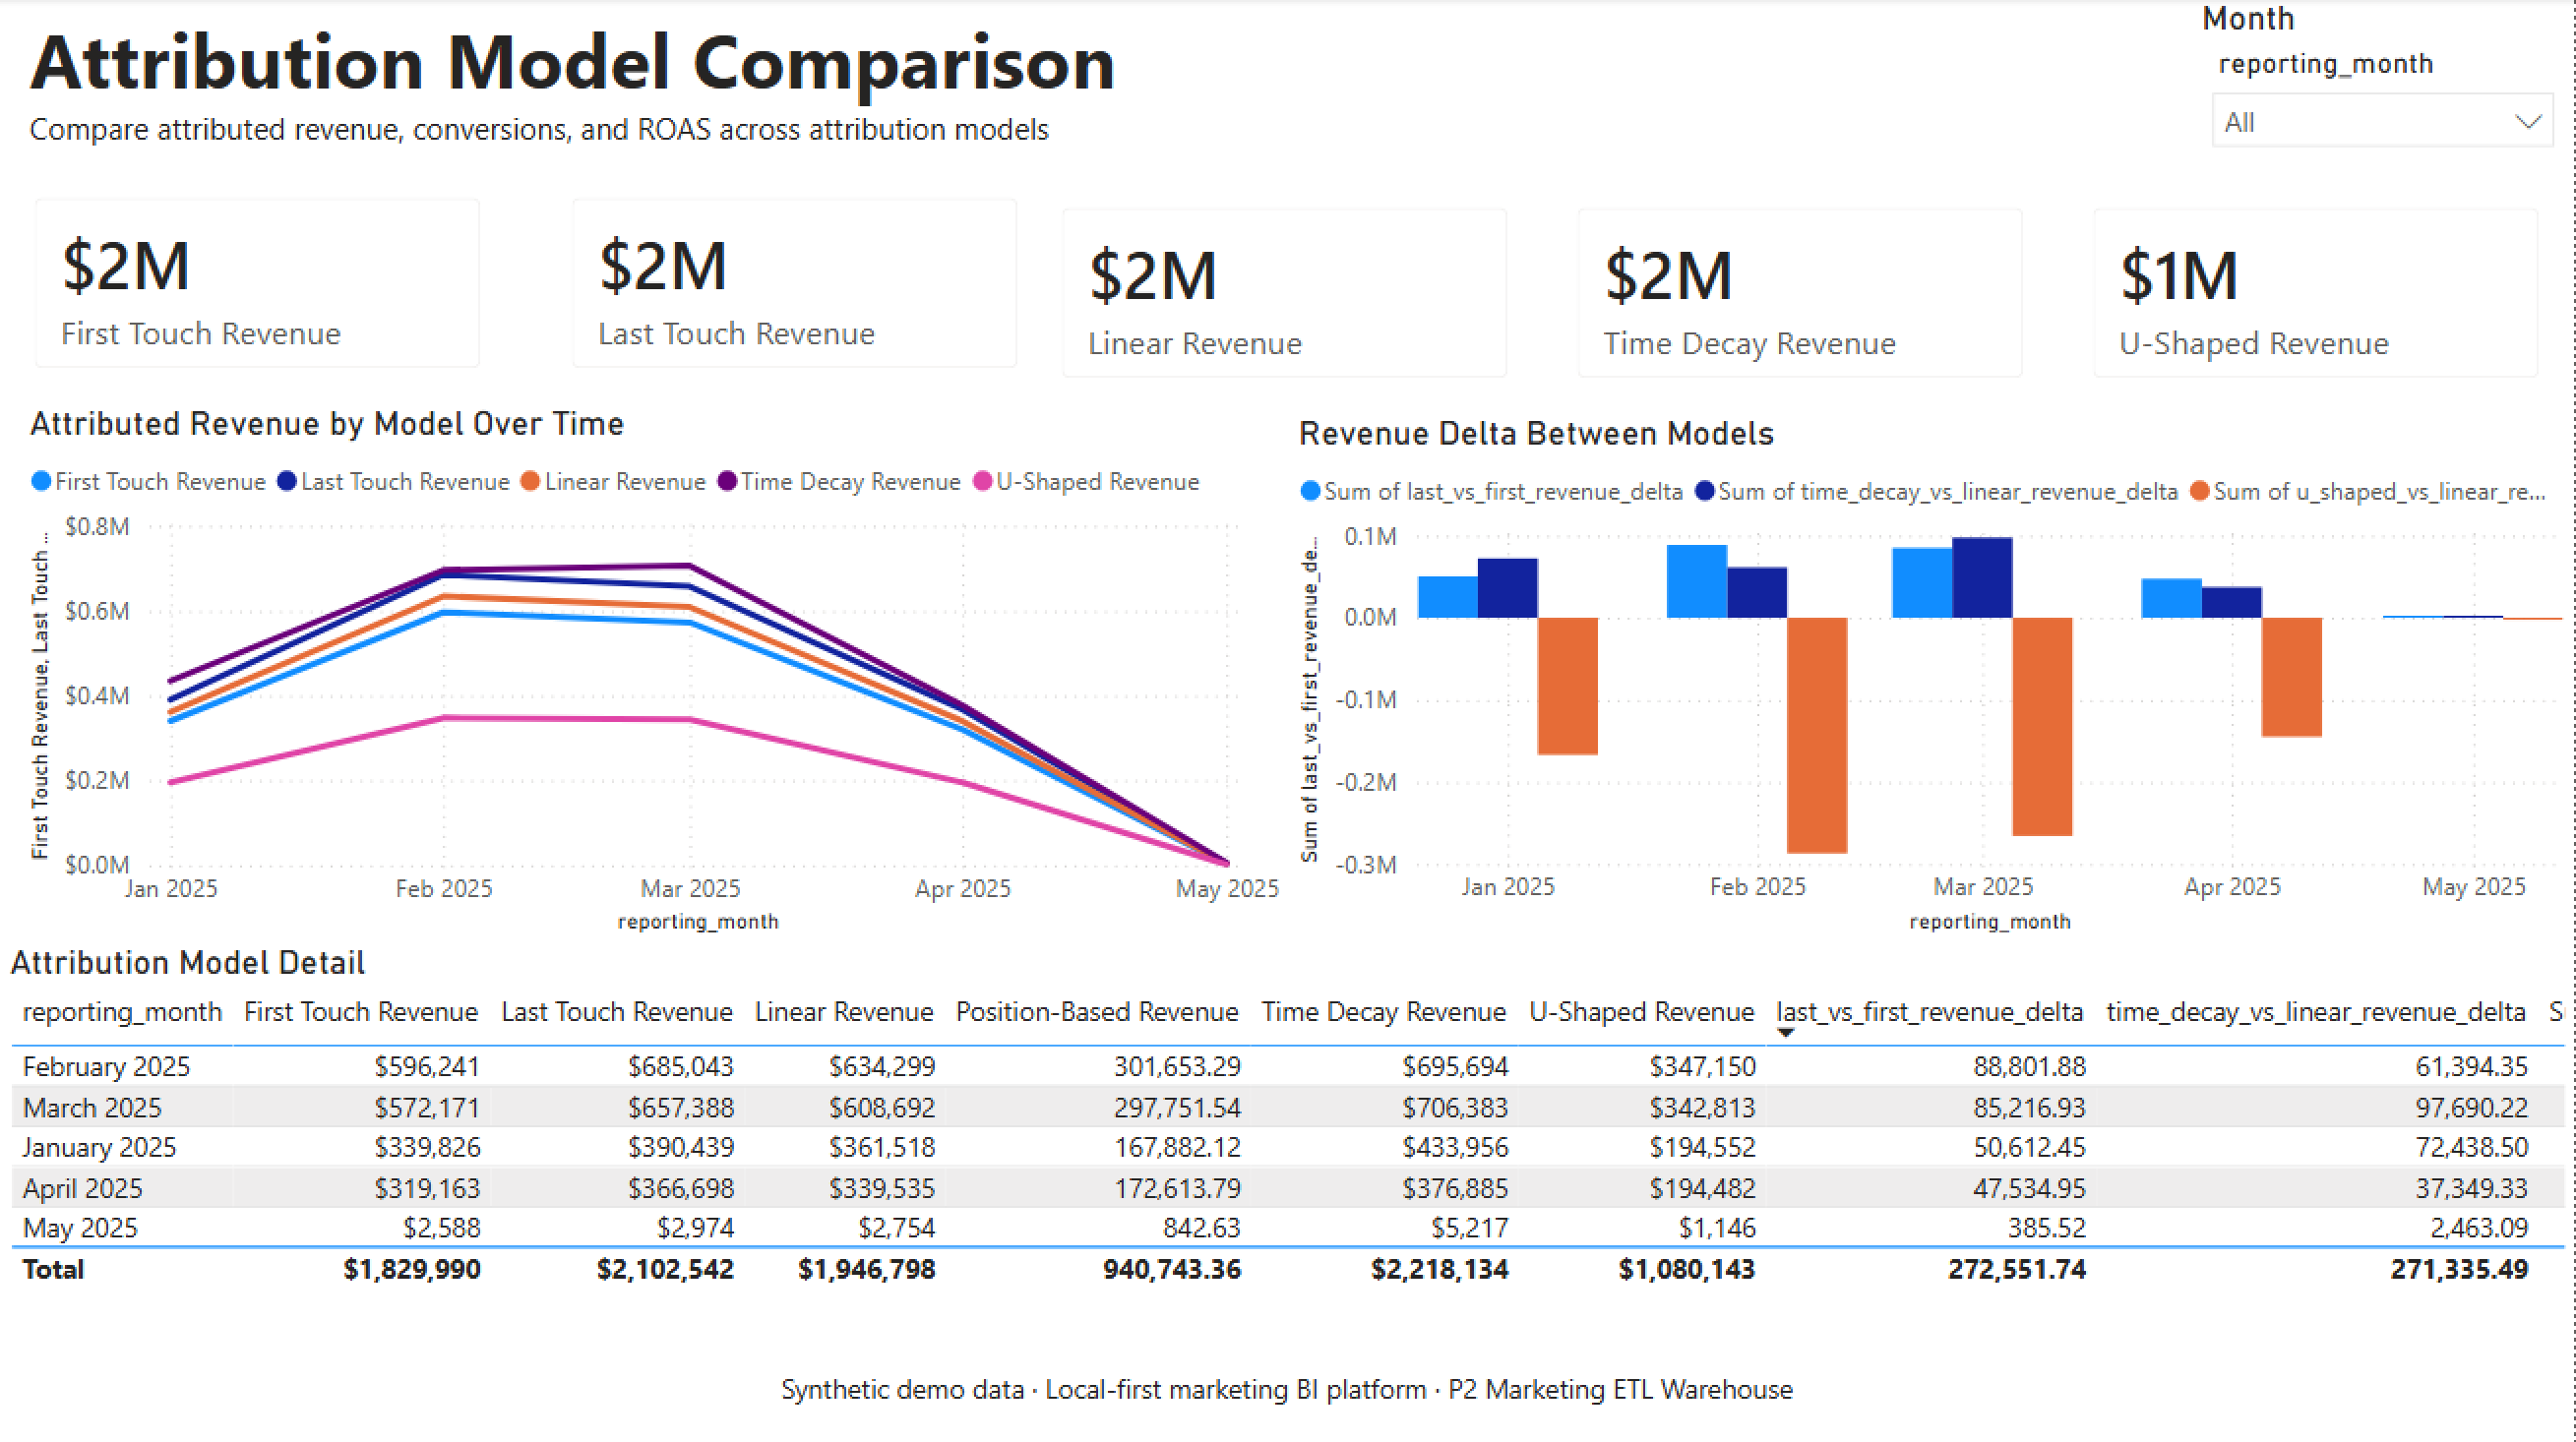

Layout of this report page (visuals, bound fields, positions):
{"tool":"powerbi","page":{"name":"Attribution Model Comparison","canvas":[1280,720],"ordinal":4},"visuals":[{"type":"textbox","box":[9.8,0,869.7,82.2],"z":0},{"type":"slicer","title":"Month","fields":{"Values":["mart_attribution_model_comparison.reporting_month"]},"box":[1089.8,0,189.8,87.1],"z":2000},{"type":"cardVisual","fields":{"Data":["mart_attribution_model_comparison.First Touch Revenue"]},"box":[0,82.4,256.4,119],"z":3000},{"type":"cardVisual","fields":{"Data":["mart_attribution_model_comparison.Last Touch Revenue"]},"box":[266.6,82.4,256.4,119],"z":4000},{"type":"cardVisual","fields":{"Data":["mart_attribution_model_comparison.Linear Revenue"]},"box":[510.8,87.5,256.4,119],"z":5000},{"type":"cardVisual","fields":{"Data":["mart_attribution_model_comparison.Time Decay Revenue"]},"box":[767.2,87.5,256.4,119],"z":6000},{"type":"cardVisual","fields":{"Data":["mart_attribution_model_comparison.U-Shaped Revenue"]},"box":[1023.6,87.5,256.4,119],"z":7000},{"type":"tableEx","title":"Attribution Model Detail","fields":{"Values":["mart_attribution_model_comparison.reporting_month","mart_attribution_model_comparison.First Touch Revenue","mart_attribution_model_comparison.Last Touch Revenue","mart_attribution_model_comparison.Linear Revenue","mart_attribution_model_comparison.Position-Based Revenue","mart_attribution_model_comparison.Time Decay Revenue","mart_attribution_model_comparison.U-Shaped Revenue","Sum(mart_attribution_model_comparison.last_vs_first_revenue_delta)","Sum(mart_attribution_model_comparison.time_decay_vs_linear_revenue_delta)","Sum(mart_attribution_model_comparison.u_shaped_vs_linear_revenue_delta)"]},"box":[0,469.6,1279.6,250.4],"z":8000},{"type":"lineChart","title":"Attributed Revenue by Model Over Time","fields":{"Category":["mart_attribution_model_comparison.reporting_month"],"Y":["mart_attribution_model_comparison.First Touch Revenue","mart_attribution_model_comparison.Last Touch Revenue","mart_attribution_model_comparison.Linear Revenue","mart_attribution_model_comparison.Time Decay Revenue","mart_attribution_model_comparison.U-Shaped Revenue"]},"box":[9.6,201.4,630.9,268.6],"z":8001},{"type":"clusteredColumnChart","title":"Revenue Delta Between Models","fields":{"Category":["mart_attribution_model_comparison.reporting_month"],"Y":["Sum(mart_attribution_model_comparison.last_vs_first_revenue_delta)","Sum(mart_attribution_model_comparison.time_decay_vs_linear_revenue_delta)","Sum(mart_attribution_model_comparison.u_shaped_vs_linear_revenue_delta)"]},"box":[640.5,206.5,638.5,263.1],"z":8002},{"type":"textbox","box":[0,660.3,1279.6,59.7],"z":8003}]}

Visuals, with their boxes in screenshot pixels (x1, y1, x2, y2), scaled from the page's 1280x720 canvas onto the 2576x1442 screenshot:
textbox: (x1=20, y1=0, x2=1770, y2=164)
"Month" slicer: (x1=2193, y1=0, x2=2575, y2=174)
cardVisual - mart_attribution_model_comparison.First Touch Revenue: (x1=0, y1=165, x2=516, y2=403)
cardVisual - mart_attribution_model_comparison.Last Touch Revenue: (x1=536, y1=165, x2=1053, y2=403)
cardVisual - mart_attribution_model_comparison.Linear Revenue: (x1=1028, y1=175, x2=1544, y2=413)
cardVisual - mart_attribution_model_comparison.Time Decay Revenue: (x1=1544, y1=175, x2=2060, y2=413)
cardVisual - mart_attribution_model_comparison.U-Shaped Revenue: (x1=2060, y1=175, x2=2575, y2=413)
"Attribution Model Detail" tableEx: (x1=0, y1=940, x2=2575, y2=1441)
"Attributed Revenue by Model Over Time" lineChart: (x1=20, y1=403, x2=1289, y2=941)
"Revenue Delta Between Models" clusteredColumnChart: (x1=1289, y1=413, x2=2574, y2=940)
textbox: (x1=0, y1=1322, x2=2575, y2=1441)
